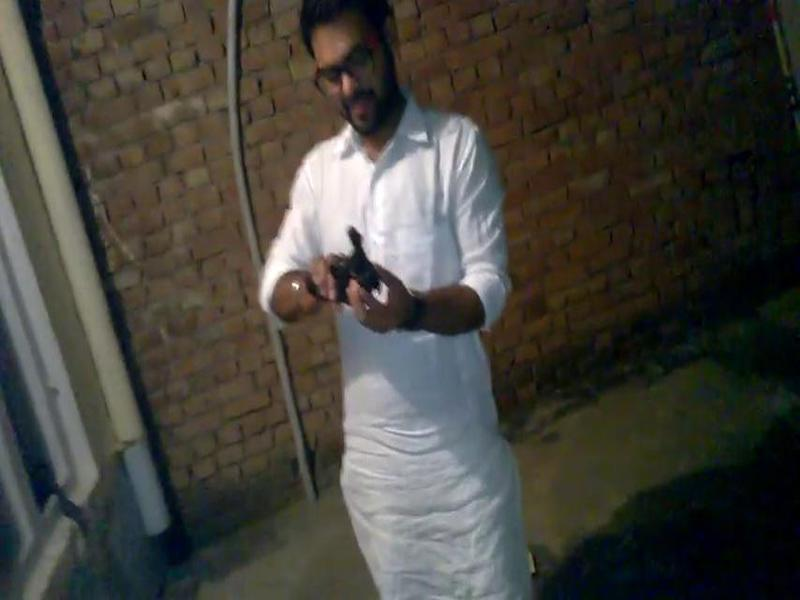Revolver: (291, 222, 395, 316)
